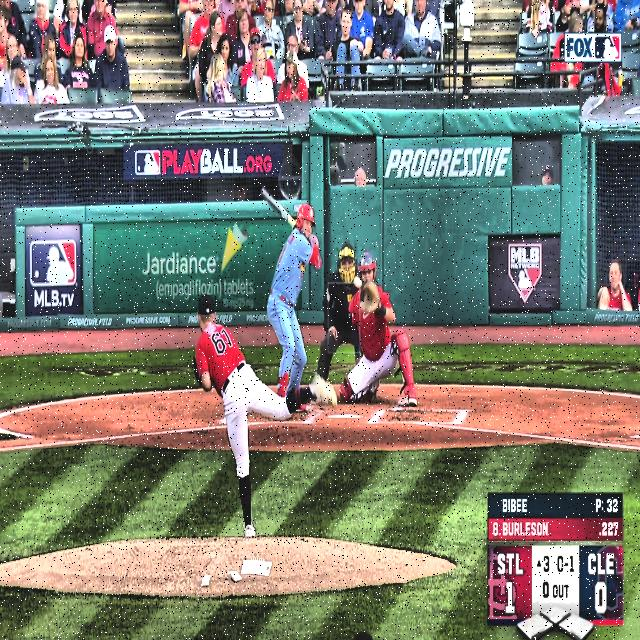baseball: (353, 276, 362, 289)
